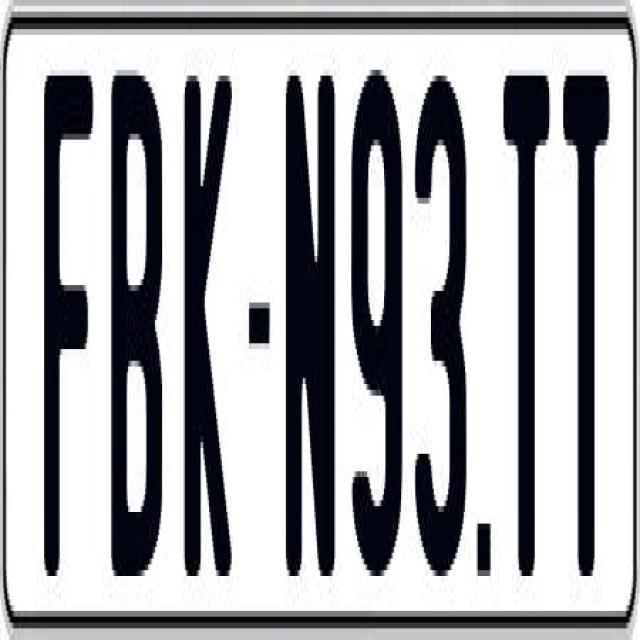3: (414, 70, 468, 588)
9: (350, 63, 406, 600)
B: (106, 58, 164, 576)
F: (44, 58, 92, 582)
K: (180, 64, 230, 576)
N: (286, 76, 340, 576)
T: (559, 64, 609, 582), (502, 70, 550, 594)
